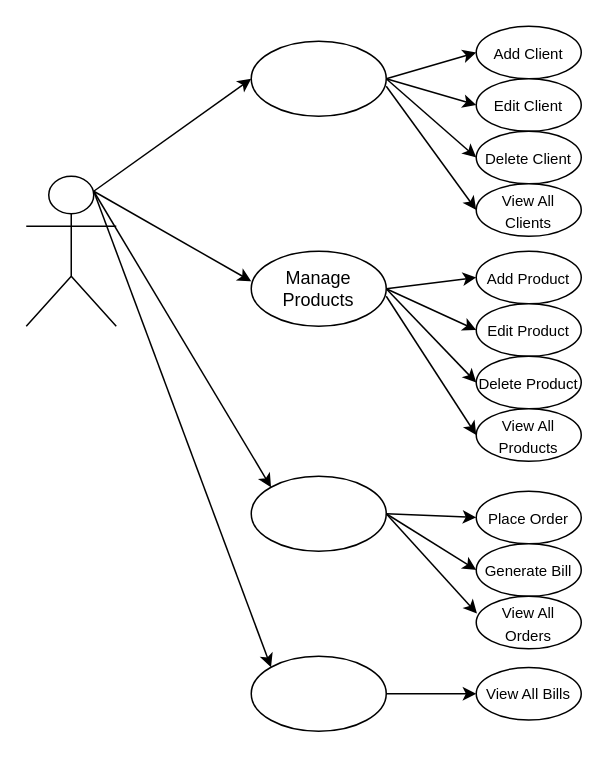
The diagram is 608 pixels wide and 758 high, and some of its shapes have lost their labels. The box of each missing label's shape, as (x1, y1, x2, y2) in pixels:
Actor: (25, 175, 116, 326)
Manage Clients: (250, 40, 386, 116)
Manage Orders: (250, 475, 386, 551)
View Bills: (250, 655, 386, 731)
